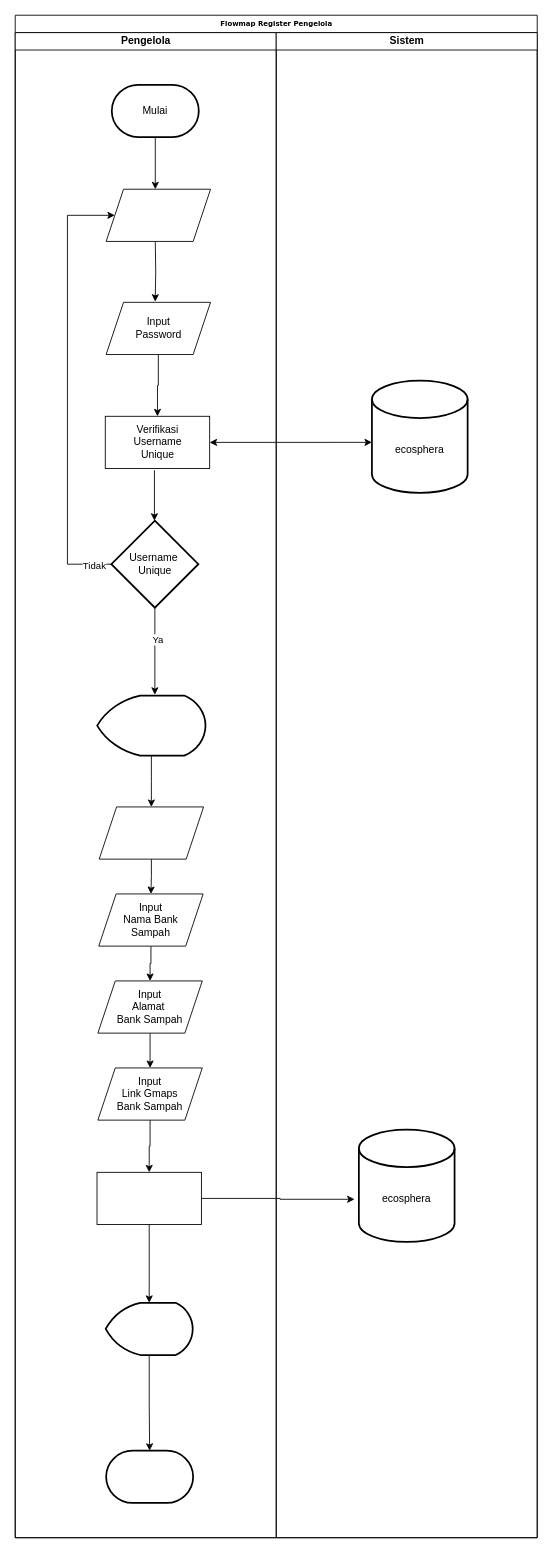
The diagram is 552 pixels wide and 1553 high, and some of its shapes have lost their labels. The shapes that lost their labels are listed below. From the top down, each one's box as (x1, y1, x2, y2) in pixels, then its label:
(105, 188, 211, 241): Input Username
(96, 694, 206, 756): Page Input Biodata Bank Sampah
(98, 806, 204, 859): Input Nama Pengelola
(96, 1171, 201, 1225): Buat Data Pengelola
(104, 1302, 193, 1355): Login Page
(105, 1449, 194, 1503): Selesai
